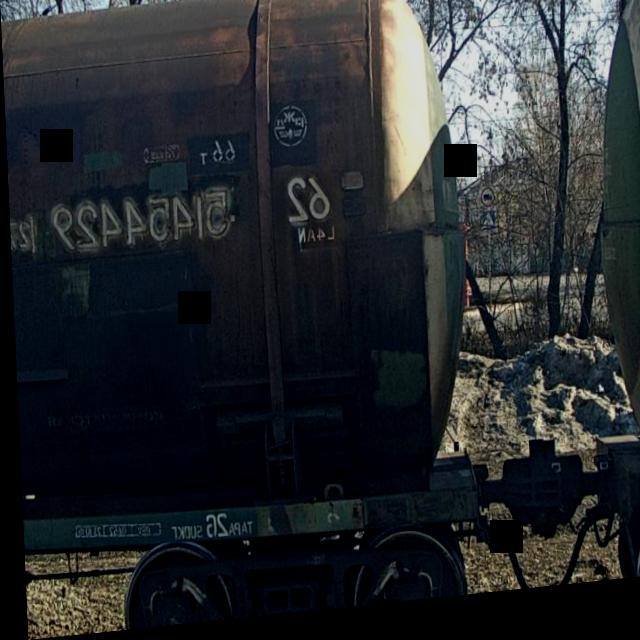tank: (0, 0, 491, 640), (578, 0, 640, 593)
